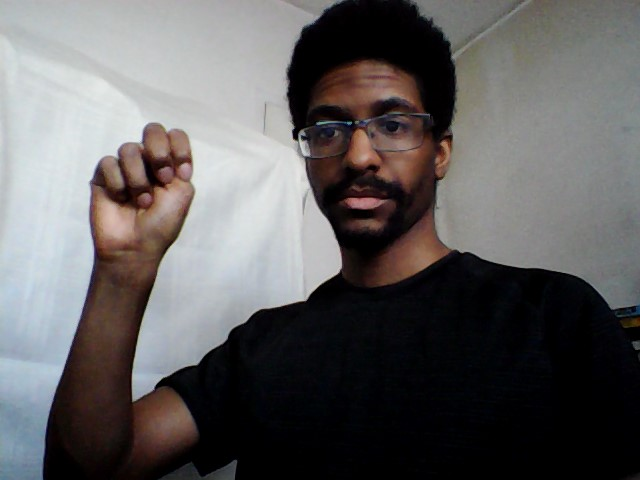n: (83, 118, 199, 270)
